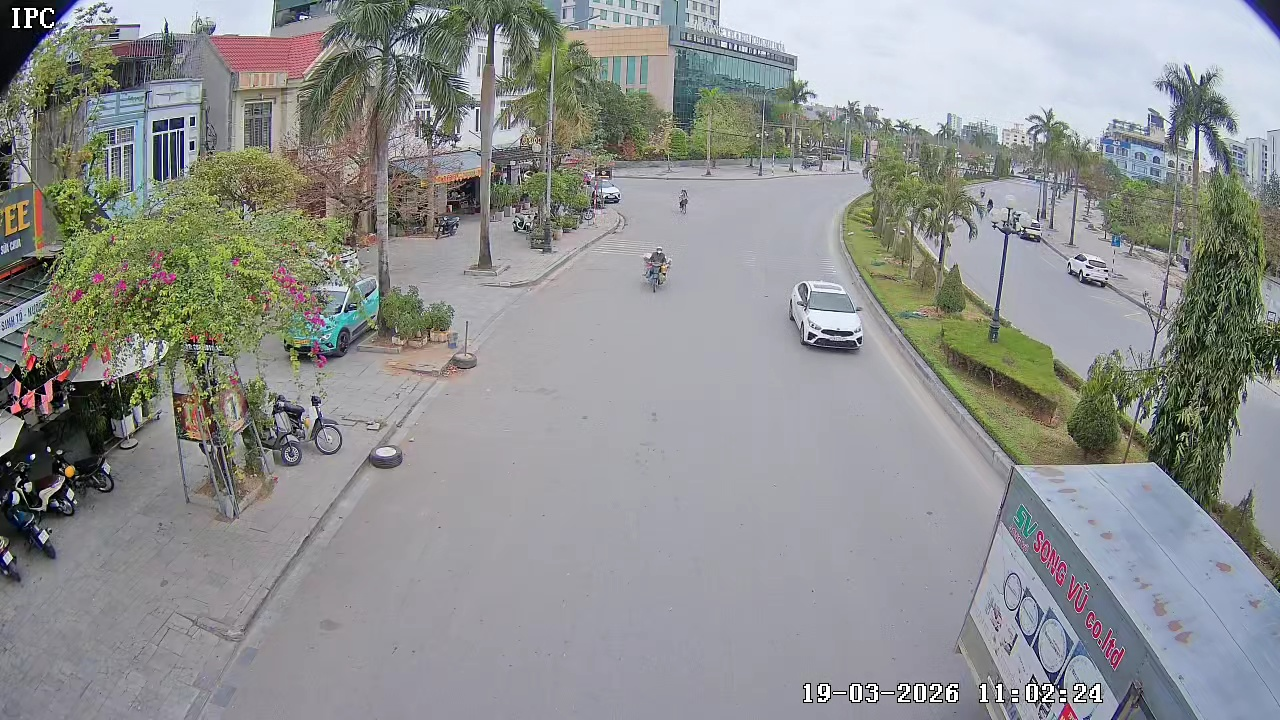bike: (261, 389, 304, 464), (307, 385, 344, 456)
car: (787, 277, 865, 350)
motorbike: (642, 243, 671, 293), (0, 526, 24, 585), (677, 186, 690, 214)
truck: (953, 461, 1277, 719)
